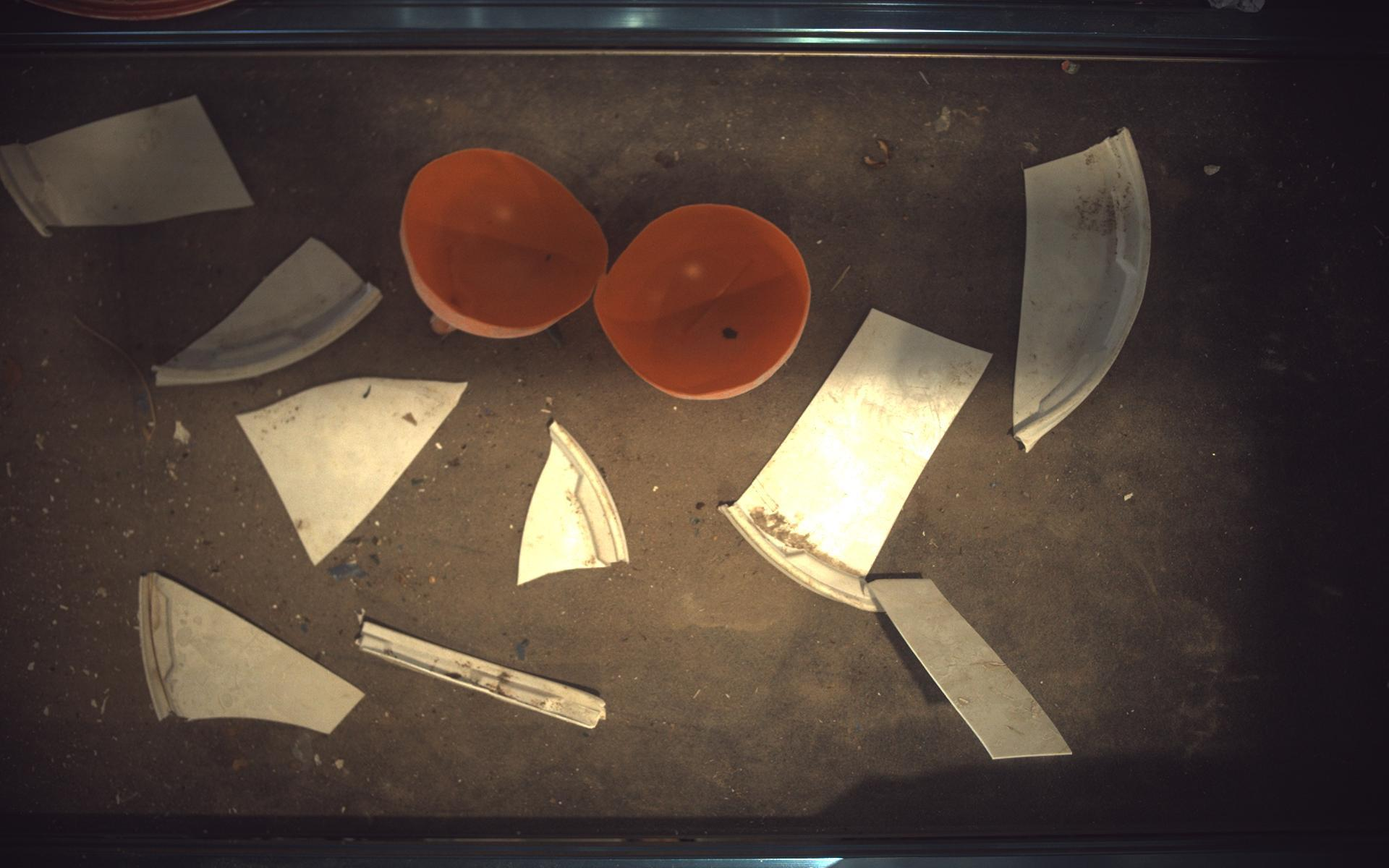plastic: (724, 310, 993, 612), (1014, 127, 1153, 452), (237, 377, 467, 565), (595, 204, 812, 399), (402, 148, 608, 338), (870, 579, 1074, 760), (137, 573, 363, 735), (1, 94, 252, 236), (153, 237, 381, 386), (355, 621, 606, 730), (518, 422, 629, 585)
